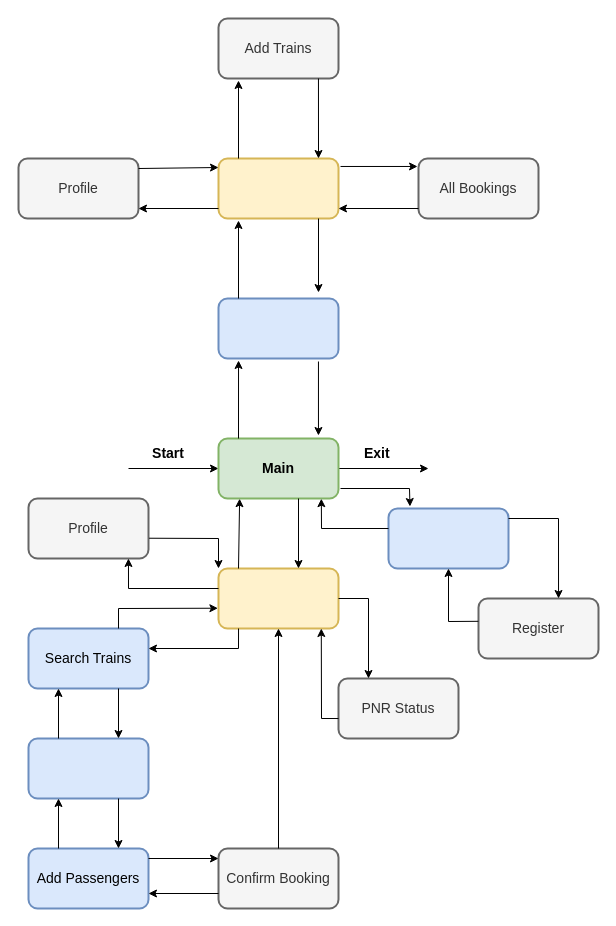
Some shapes in this 616 by 926 pixel diagram are drawn without their labels. The box of each missing label's shape, as (x1, y1, x2, y2) in pixels:
Admin: (217, 157, 339, 219)
Admin Login: (217, 297, 339, 359)
Book Tickets: (27, 737, 149, 799)
Home Page: (217, 567, 339, 629)
User Login: (387, 507, 509, 569)
